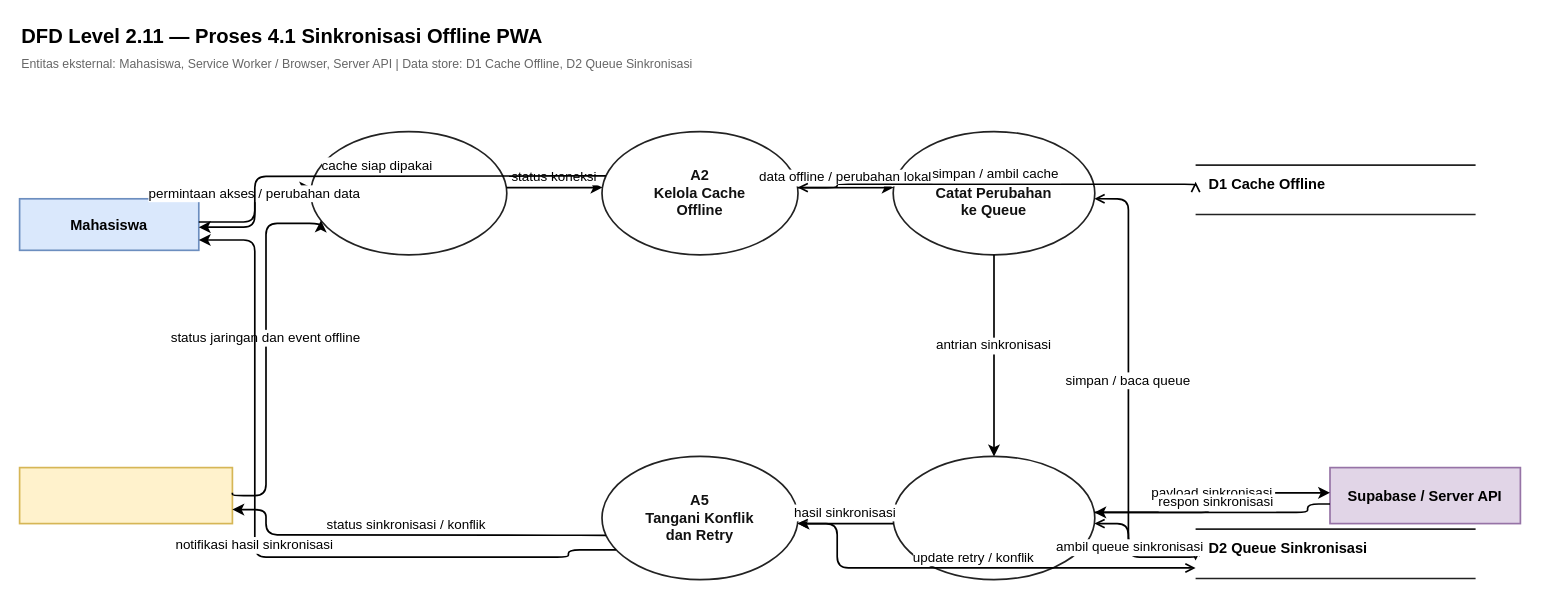
Image size: 1541x604. Some labels were removed from this diagram. Each missing label, with the box of its shape:
A1 Deteksi Status Koneksi: (309, 130, 507, 255)
A4 Sinkronkan Data ke Server: (892, 455, 1095, 580)
Service Worker / Browser: (18, 466, 233, 524)
